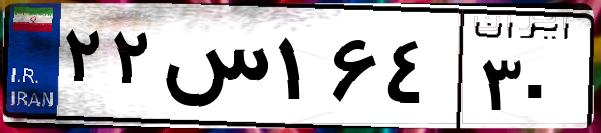0: (525, 38, 570, 115)
1: (270, 28, 330, 110)
2: (57, 26, 110, 100), (110, 28, 158, 98)
3: (475, 38, 525, 113)
4: (385, 28, 445, 110)
6: (330, 28, 385, 110)
س: (158, 20, 270, 120)
